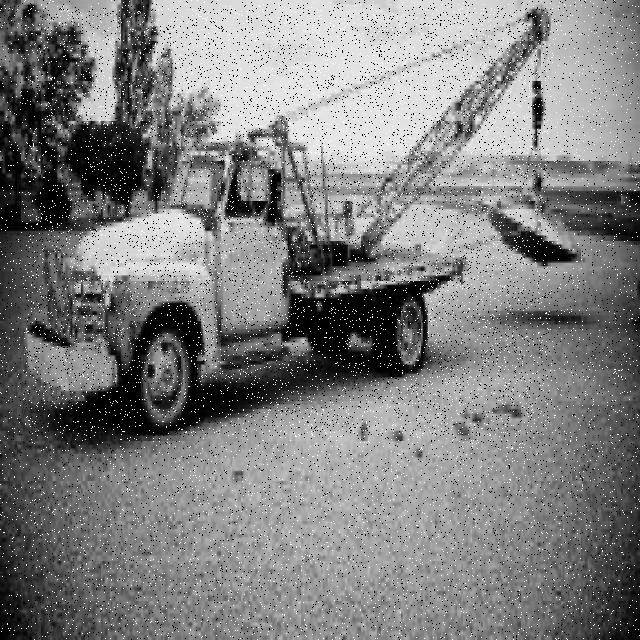Tow Truck: (25, 8, 549, 436)
